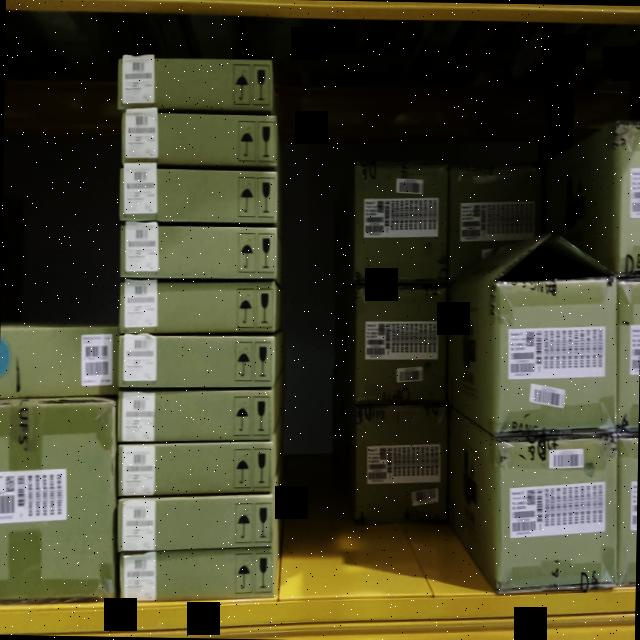box: (0, 404, 122, 603), (492, 280, 617, 433), (494, 438, 614, 588), (353, 162, 447, 291), (354, 408, 450, 522), (449, 162, 544, 276), (120, 162, 279, 228), (356, 294, 448, 405), (118, 54, 274, 114), (120, 330, 274, 390), (122, 106, 274, 166), (118, 492, 274, 550), (0, 325, 114, 401), (119, 548, 278, 601), (116, 388, 272, 440), (120, 224, 276, 276), (116, 444, 272, 494), (119, 280, 275, 330)
